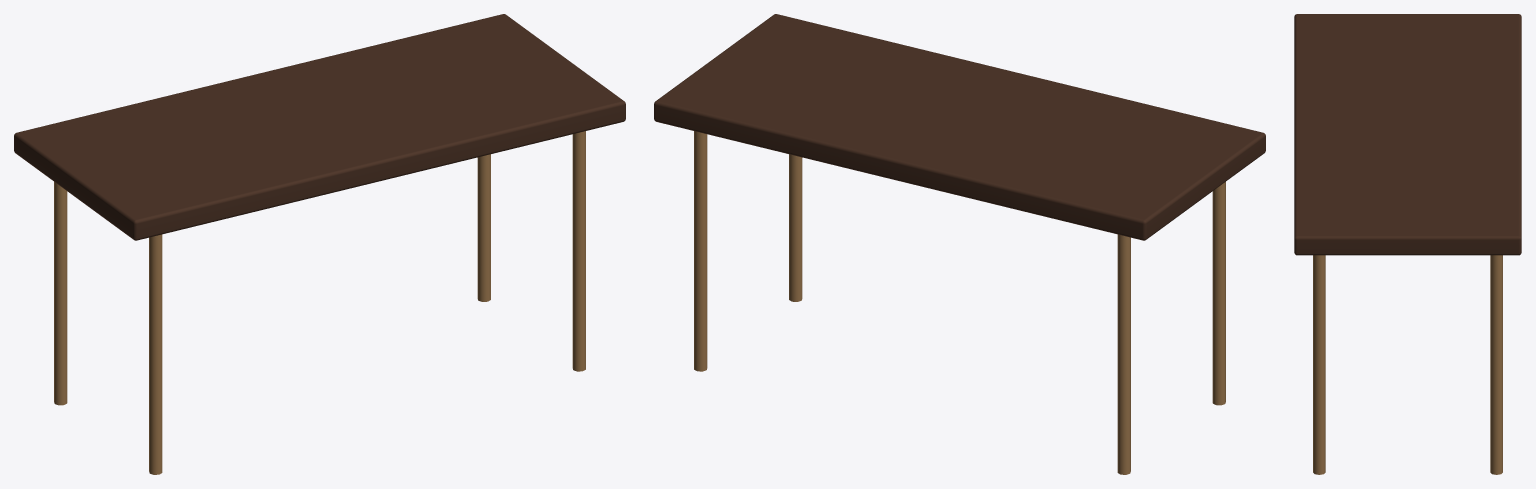
File: prod-1773061941304-2a65k.glb
3 renders of one model, left to right at view 1: azimuth 30°, elevation 25°; view 2: azimuth 150°, elevation 25°; view 3: azimuth 270°, elevation 25°, orthographic. The views are drawn at different scales.
Parts seen in each view (by area): view 1: Table top.006, Table leg.016; view 2: Table top.006, Table leg.016; view 3: Table top.006, Table leg.016.
Boxes of the visible parts, x1,y1,x2,y2 form: Table top.006: (14,14,625,240); Table leg.016: (54,131,585,474); Table top.006: (654,14,1265,240); Table leg.016: (694,131,1225,474); Table top.006: (1294,14,1521,255); Table leg.016: (1313,255,1502,474).
Size of the model in its own units: 1.4 by 0.73 by 0.6.
